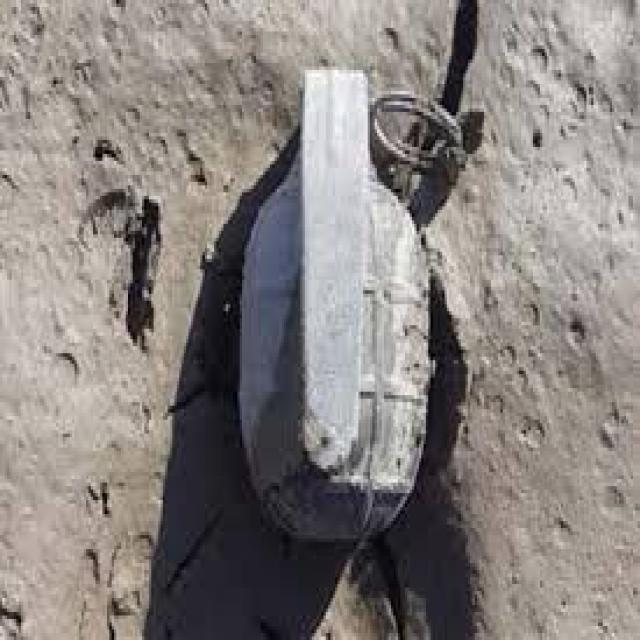grenade: (237, 58, 468, 553)
